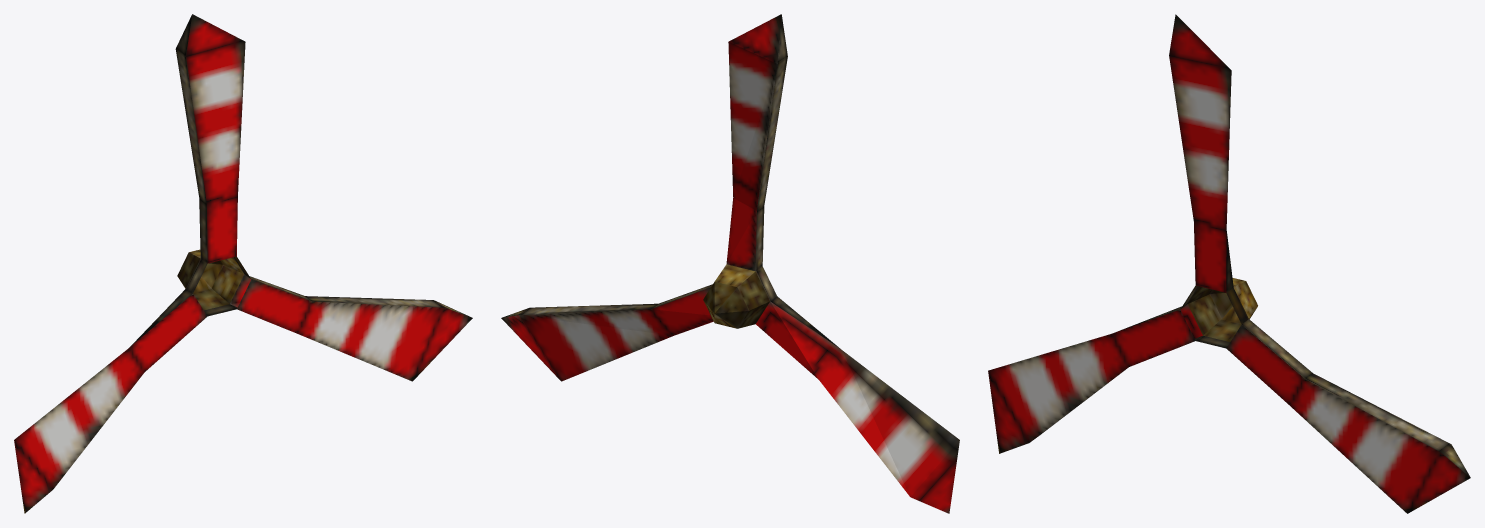
File: windgen-rotor.obj
The picture shows the model from 3 angles, left to right: view 1: azimuth 30°, elevation 25°; view 2: azimuth 150°, elevation 25°; view 3: azimuth 330°, elevation 25°; orthographic projection. The views are drawn at different scales.
Parts seen in each view (by area): view 1: WindgenRotor; view 2: WindgenRotor; view 3: WindgenRotor.
Part boxes in pixels (box(x1,y1,x2,y2)): WindgenRotor: box(14, 14, 472, 513); WindgenRotor: box(501, 14, 959, 513); WindgenRotor: box(988, 14, 1470, 513).
Size of the model in its own units: 10.8 by 10.32 by 1.44.
1 material, 1 textured.
